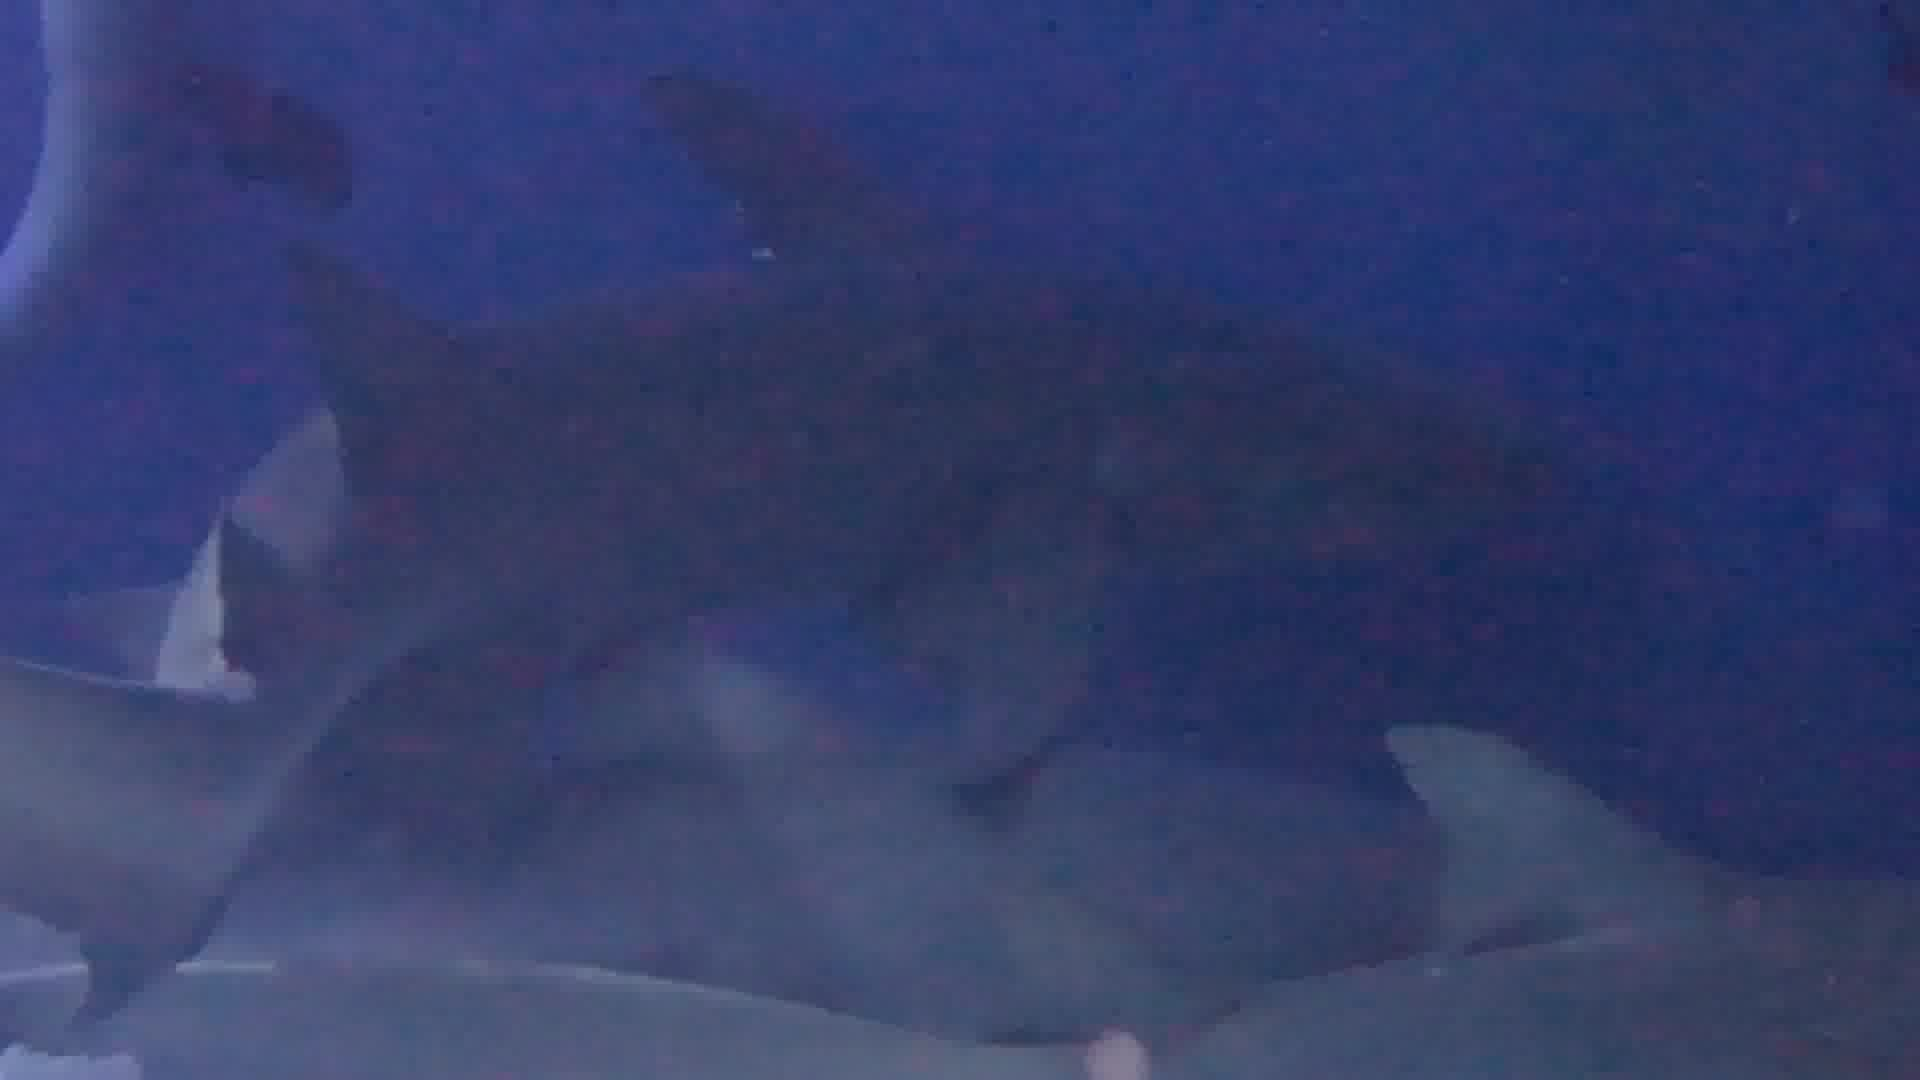Nebrius ferrugineus: (65, 113, 1753, 891)
